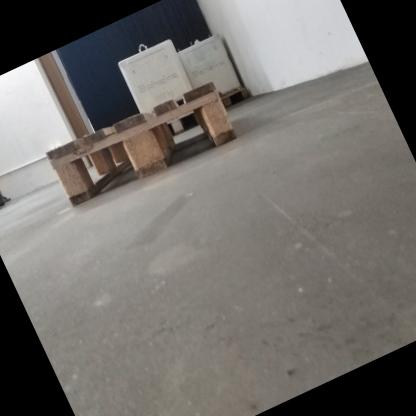BoxFace: (40, 79, 241, 206)
